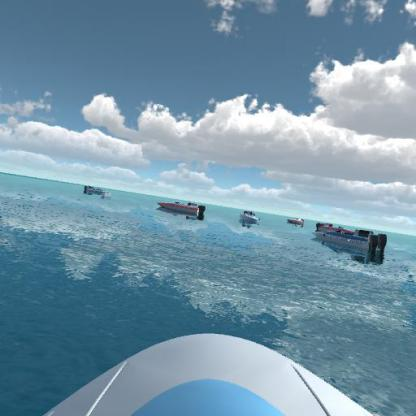usv1: (311, 227, 393, 261), (239, 206, 263, 227), (81, 181, 109, 198)
usv3: (156, 196, 205, 221), (314, 218, 355, 235), (286, 214, 307, 228)
